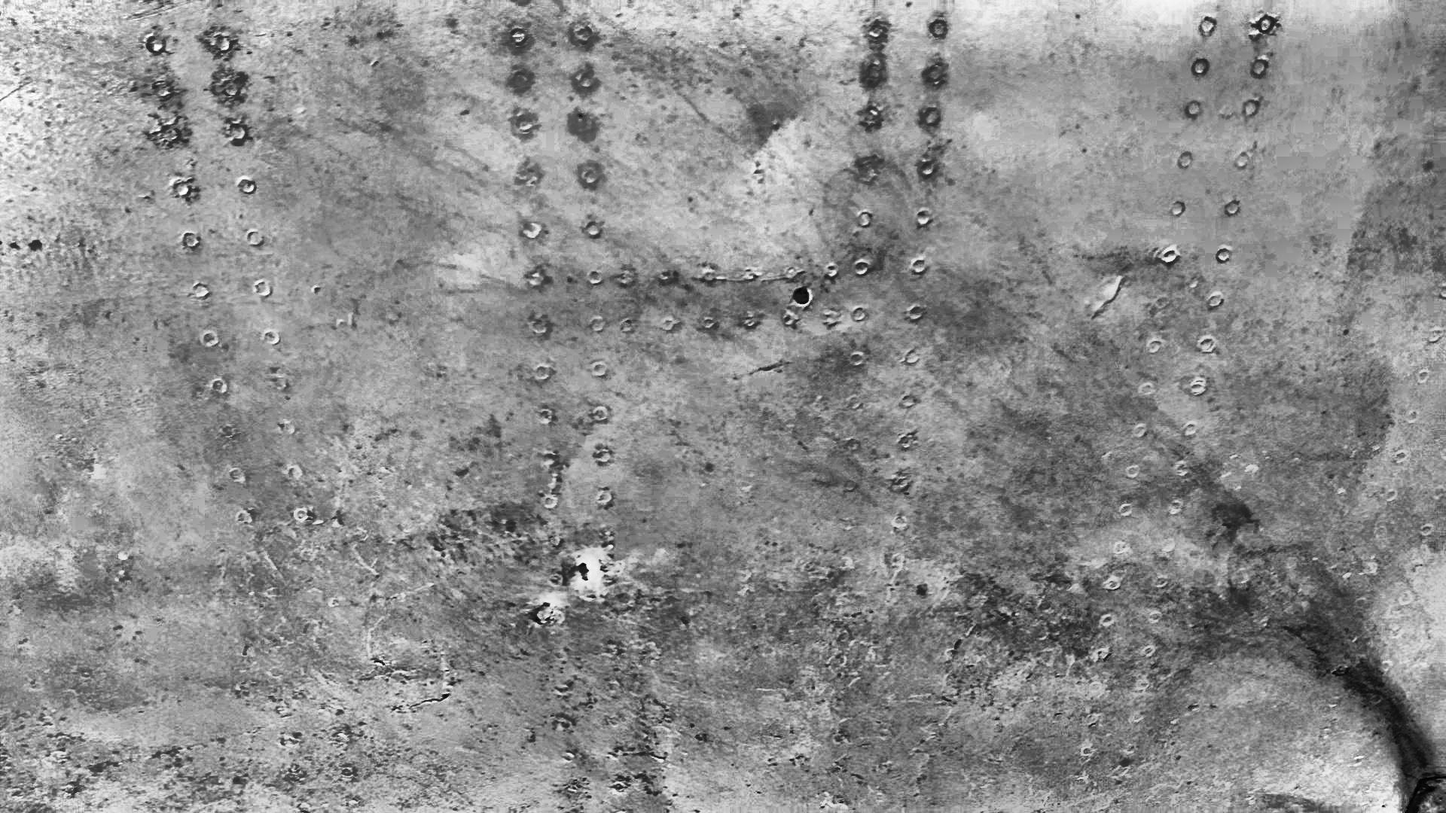dent: (757, 115, 787, 154)
paint-peel-off: (1094, 275, 1132, 318), (535, 602, 554, 623), (578, 559, 589, 585)
